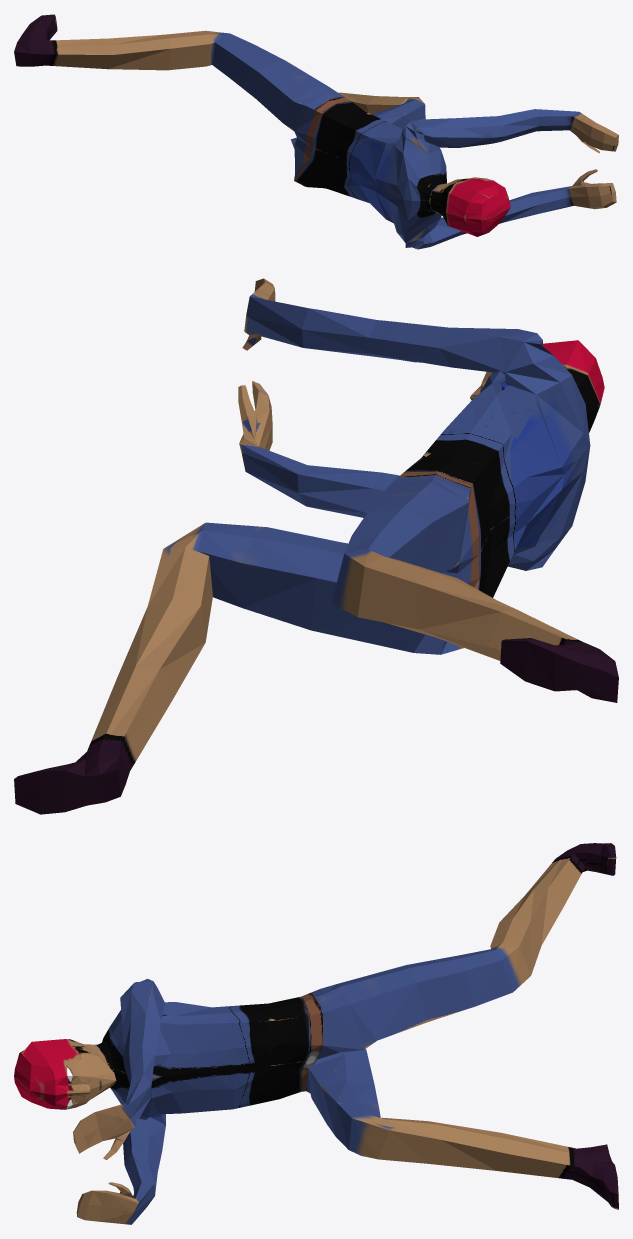
The model's file is mirrorman_000011.obj.
The picture shows the model from 3 angles, top to bottom: view 1: azimuth 30°, elevation 25°; view 2: azimuth 150°, elevation 25°; view 3: azimuth 270°, elevation 25°; orthographic projection. The views are drawn at different scales.
Visible parts, largest first — view 1: mirrorman_Cube.001_Material.001; view 2: mirrorman_Cube.001_Material.001; view 3: mirrorman_Cube.001_Material.001.
Part boxes in pixels (<box>): mirrorman_Cube.001_Material.001: <box>14,14,618,249</box>; mirrorman_Cube.001_Material.001: <box>14,278,618,814</box>; mirrorman_Cube.001_Material.001: <box>14,843,618,1224</box>.
Bounding box in the file's own units: 1.44 × 0.5407 × 1.5.
